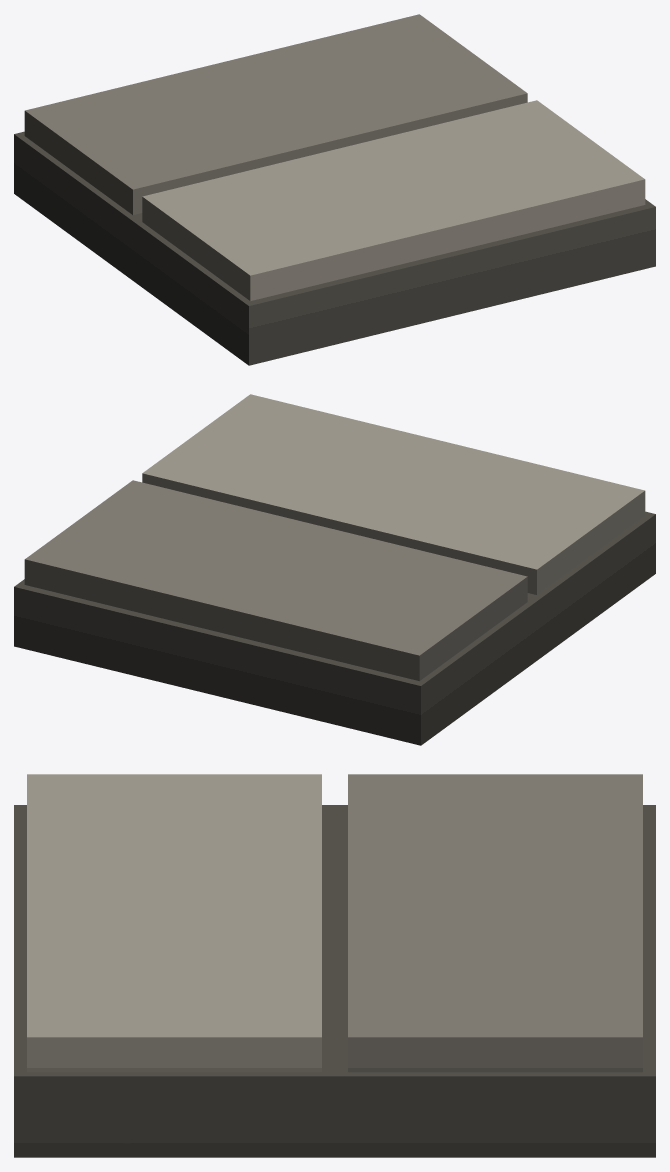
Rendered from model_44_stone.glb.
3 views of the same model, one above another, from view 1: azimuth 30°, elevation 25°; view 2: azimuth 150°, elevation 25°; view 3: azimuth 270°, elevation 25° (orthographic). The views are drawn at different scales.
Size of the model in its own units: 1 by 0.2 by 1.
Materials: 1 (1 with a texture image).
